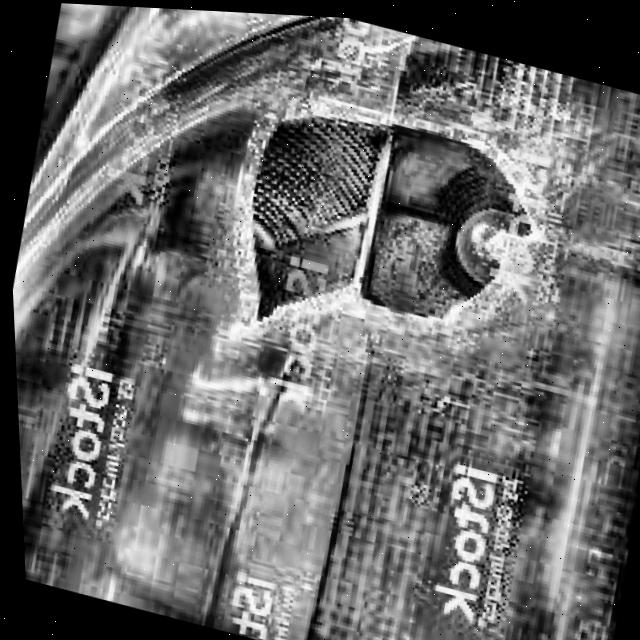tail_lamp: (226, 93, 549, 367)
